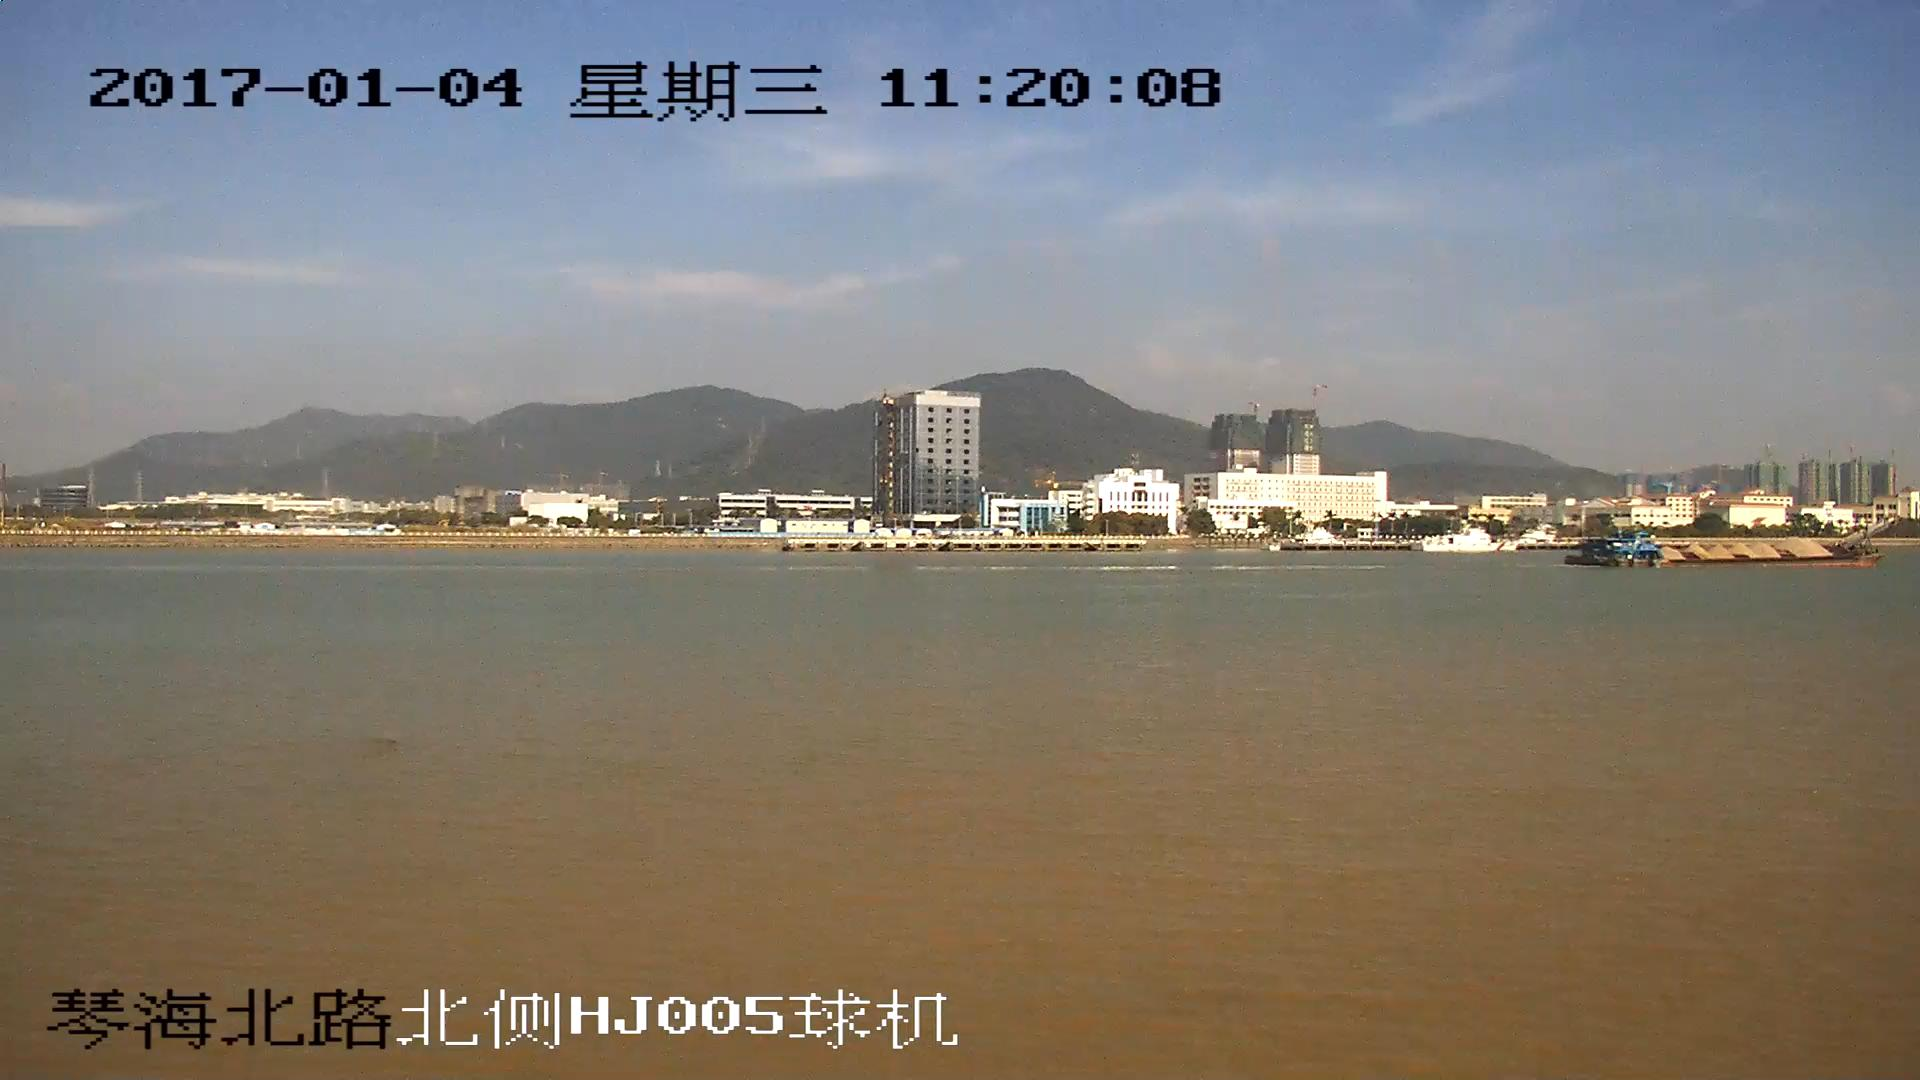ore carrier: (1569, 517, 1894, 568)
